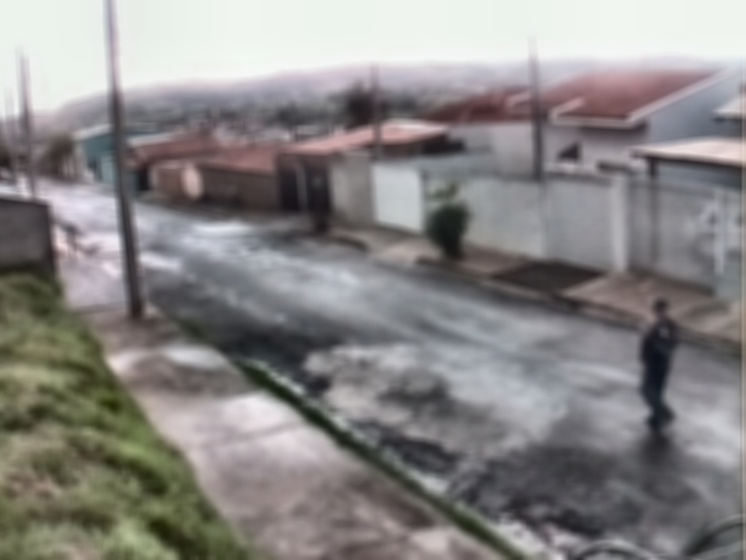person: (638, 296, 681, 430)
